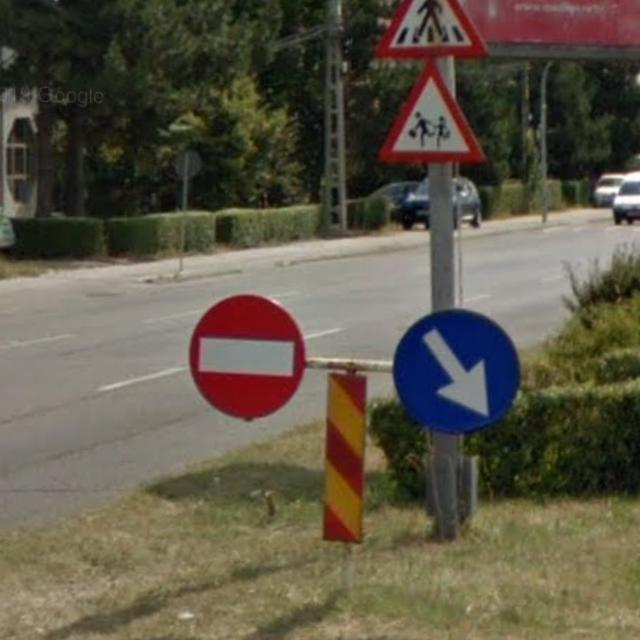warn_crosswalk: (377, 0, 490, 58)
